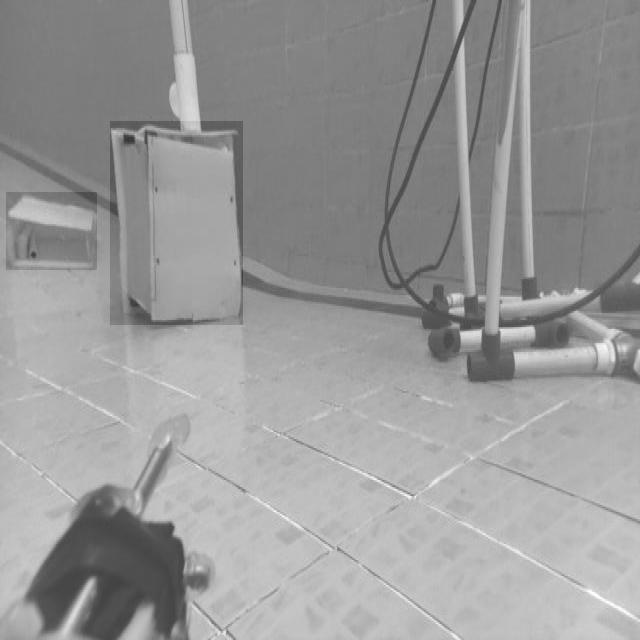Cube: (110, 121, 243, 325)
Cuboid: (6, 192, 97, 270)
